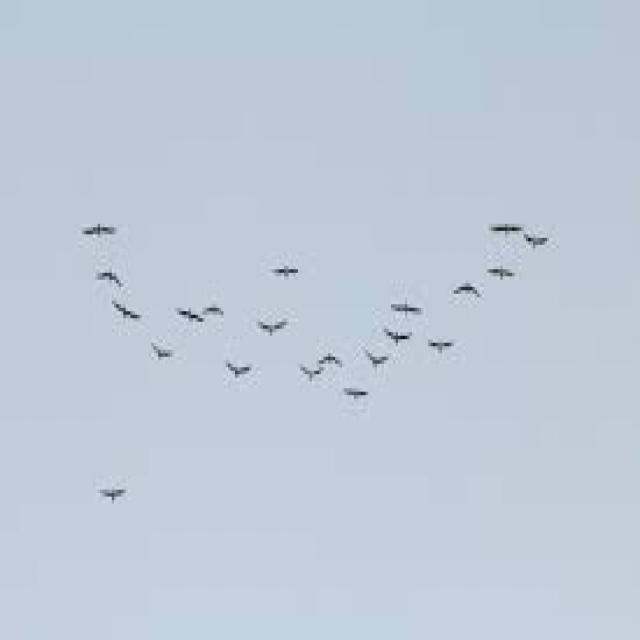bird: (91, 464, 132, 528), (380, 287, 432, 325), (108, 293, 148, 331), (452, 278, 488, 315), (257, 318, 295, 352), (482, 216, 528, 244), (426, 325, 464, 358), (172, 296, 205, 334), (379, 320, 416, 353), (76, 212, 115, 243), (260, 261, 306, 286), (520, 224, 554, 257), (484, 260, 518, 291), (225, 357, 259, 386), (91, 266, 128, 292), (298, 361, 328, 393), (364, 342, 394, 372), (152, 342, 180, 372), (340, 386, 378, 406), (204, 303, 234, 325), (316, 350, 345, 368)
